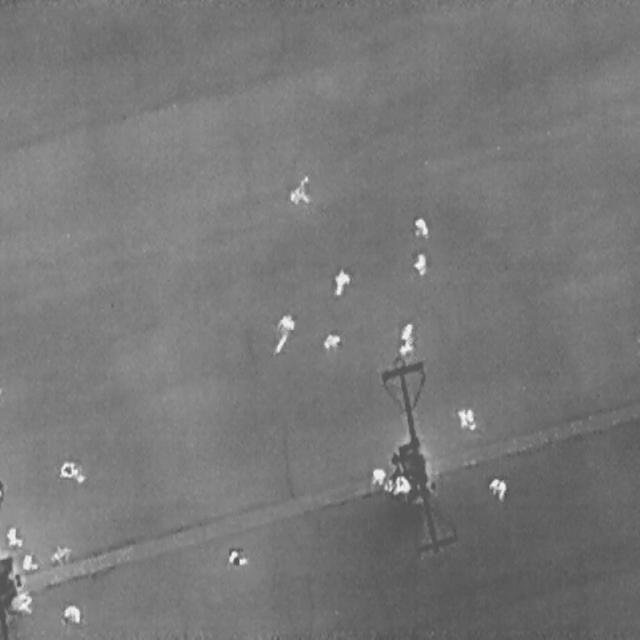Person: (268, 307, 297, 355), (56, 460, 87, 481), (289, 174, 310, 204), (8, 590, 34, 614), (318, 328, 342, 350), (333, 265, 350, 295), (457, 406, 475, 432), (60, 604, 82, 624), (226, 545, 246, 566), (489, 476, 505, 502), (6, 525, 22, 546), (412, 253, 427, 275), (396, 338, 413, 357), (394, 475, 410, 495), (20, 551, 37, 569), (412, 215, 427, 235), (371, 466, 384, 485), (400, 320, 412, 339)
